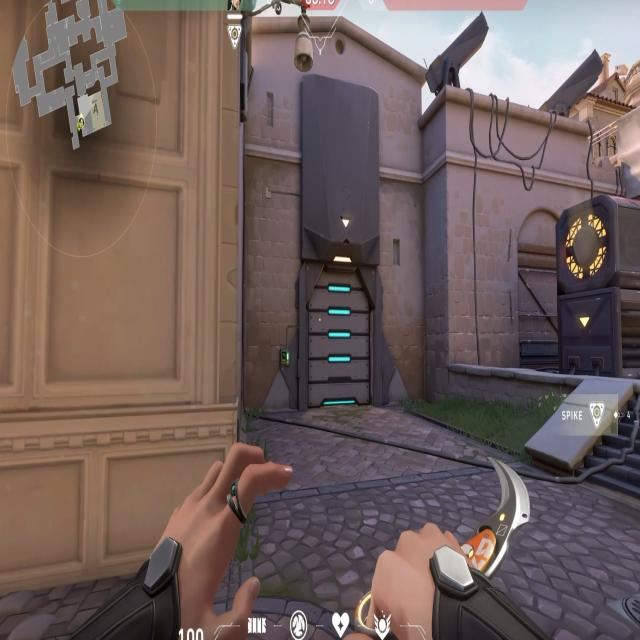A_Door: (291, 246, 387, 424)
